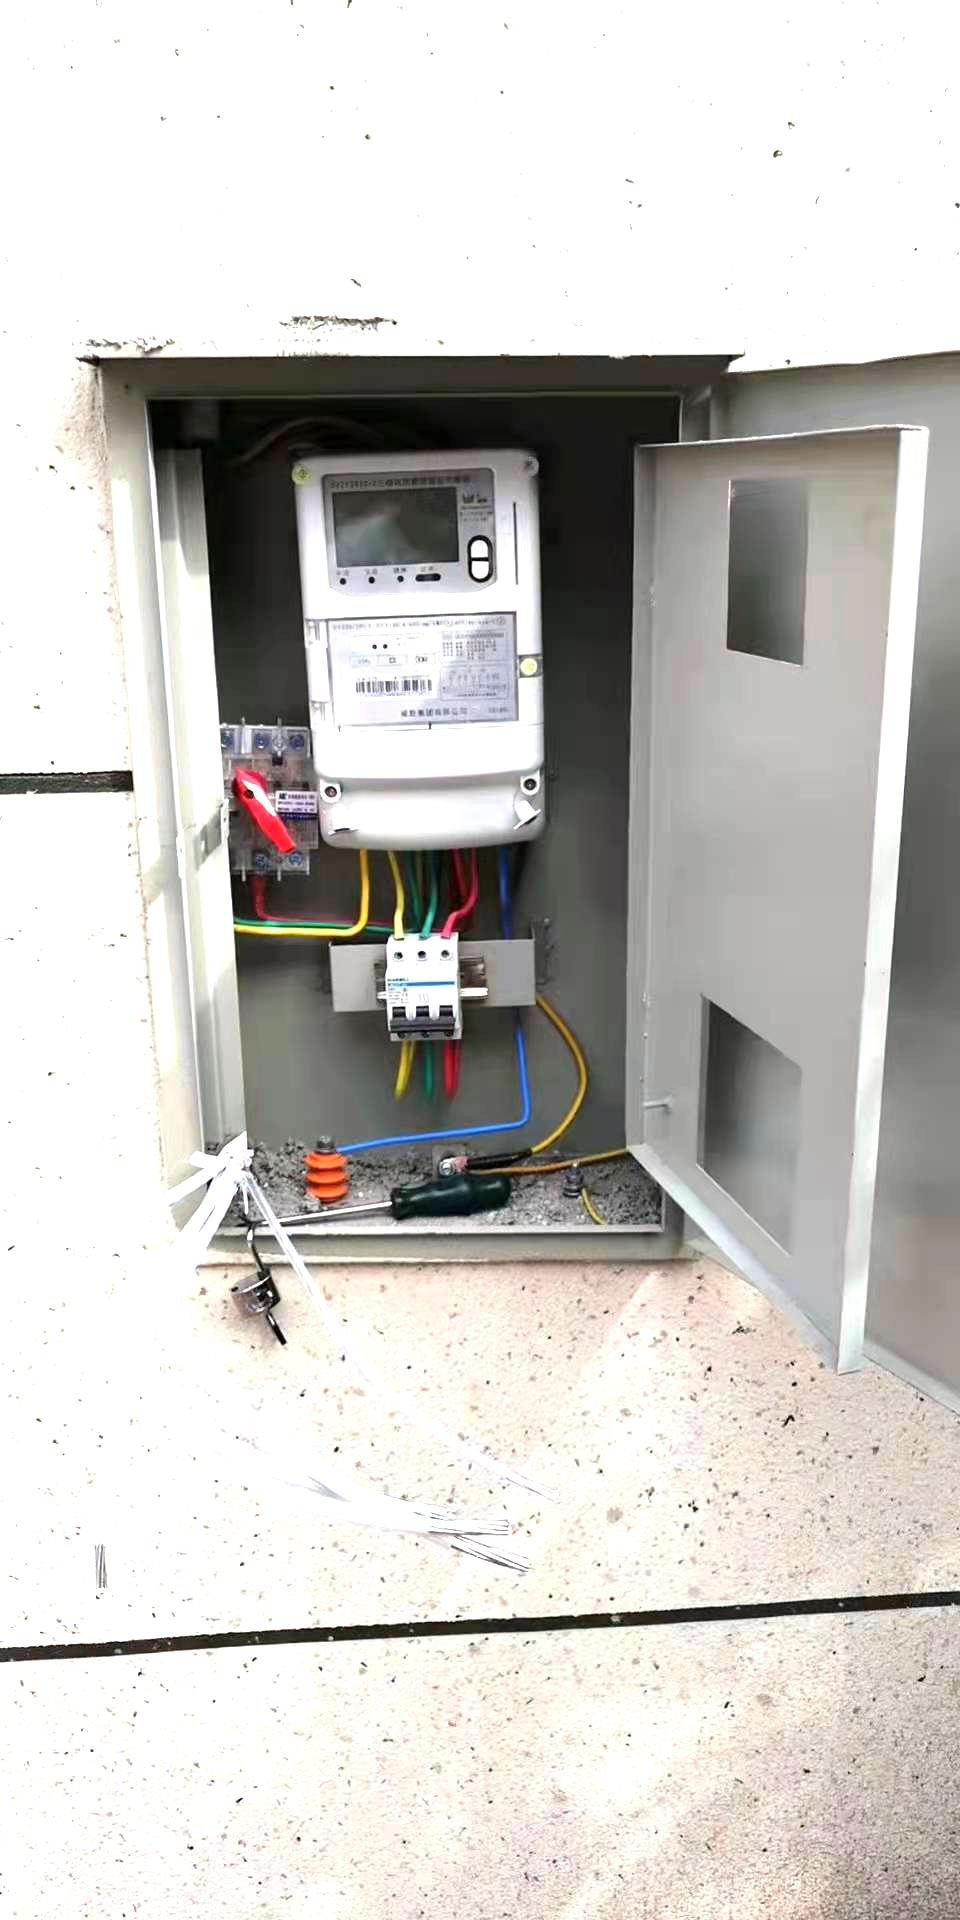digital: (302, 448, 544, 789)
